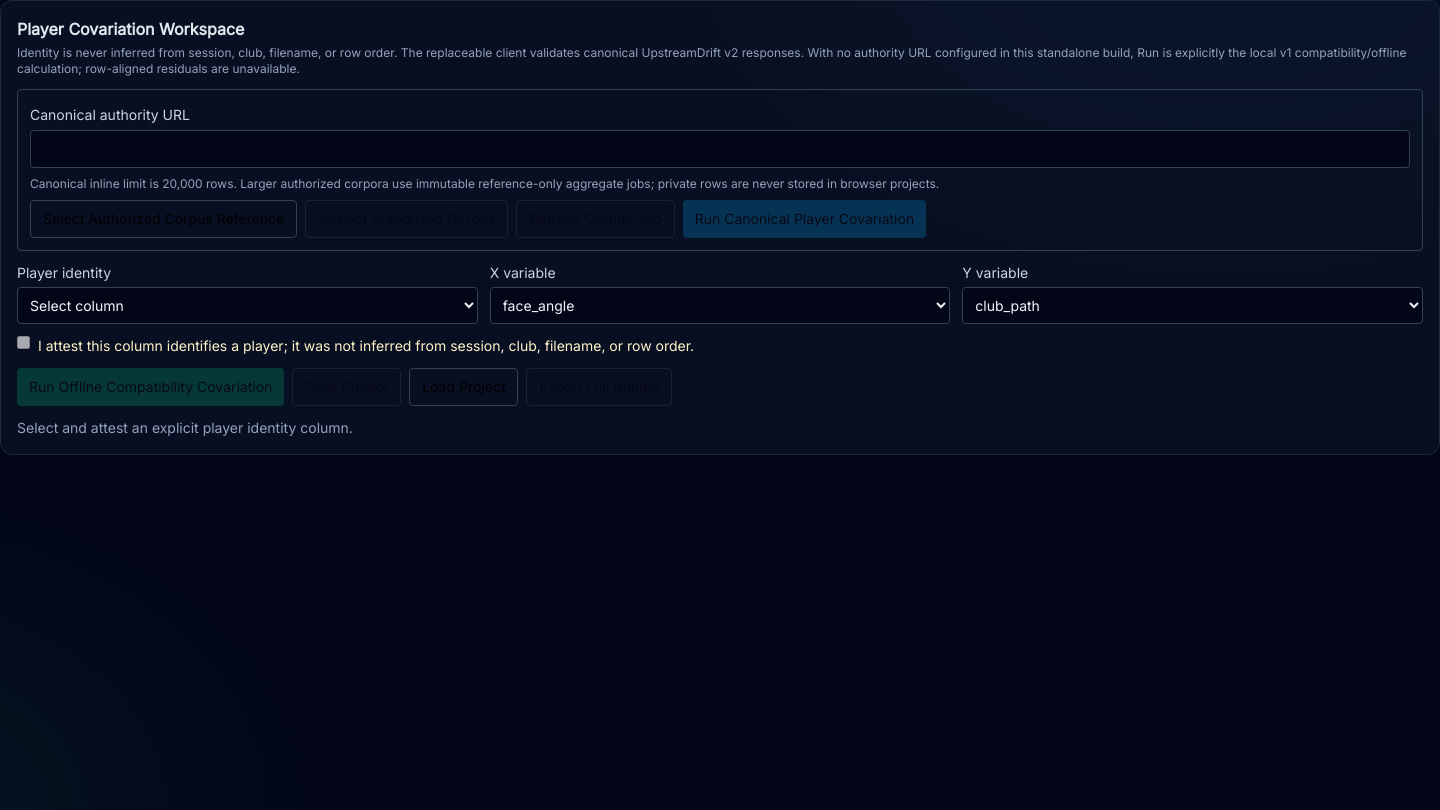
Test case: LaunchMonitorPlayerWorkspace › locks advanced population analysis to the attested identity
Select "player_id" in the dropdown named "Player identity column" at (247, 306), box [17,287,478,324]
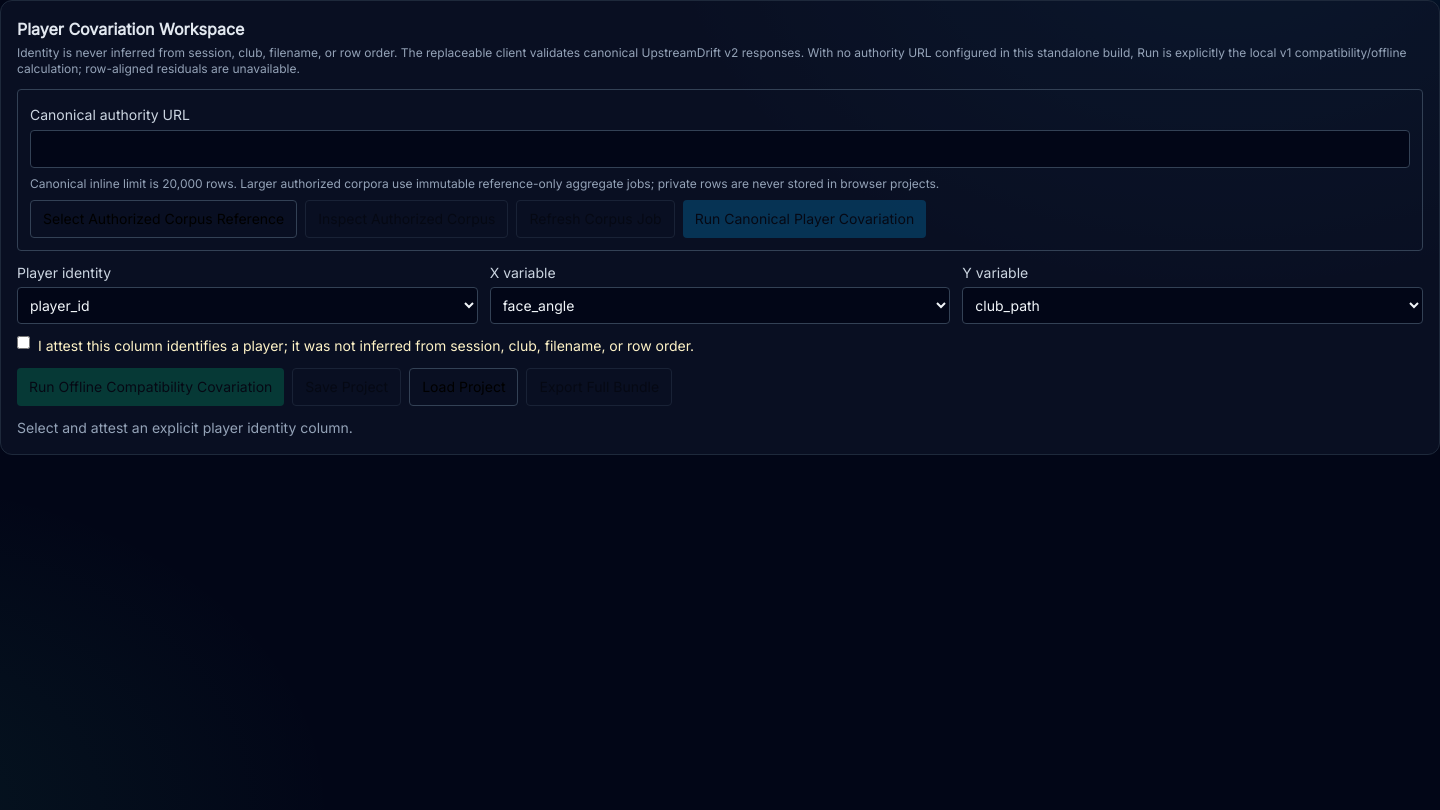
Click the checkbox labelled "I attest" at (24, 342), box [17,336,30,349]
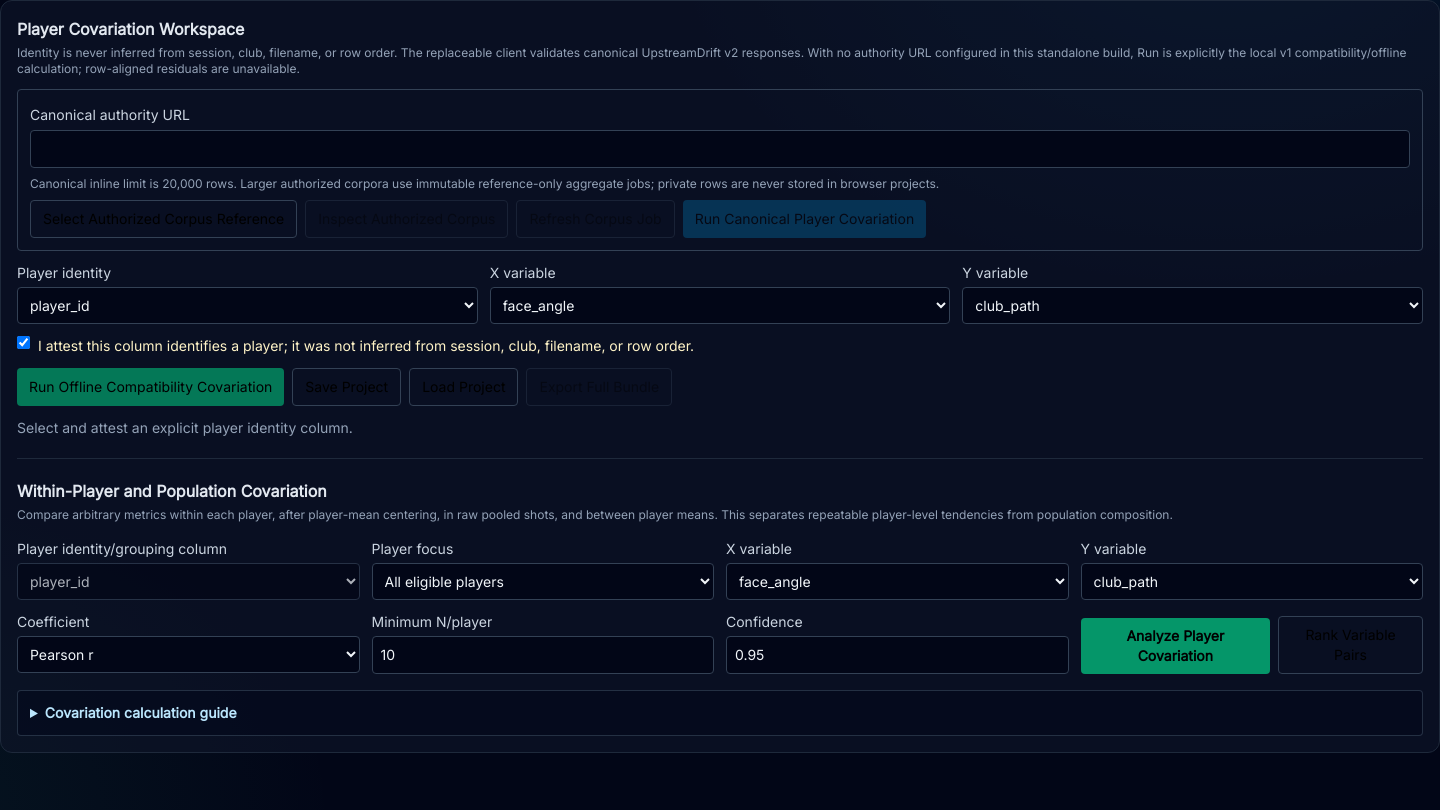
Expected: the dropdown named "Covariation player column" shows "player_id", [17,563,360,600]
Expected: the dropdown named "Covariation player column" is disabled, [17,563,360,600]
